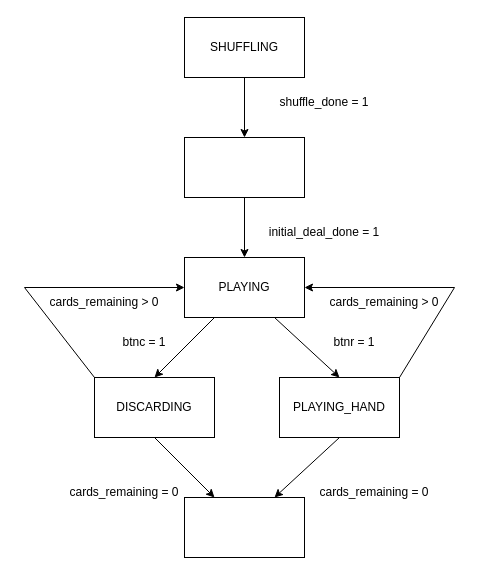
This 480x575 diagram has some shape labels left out. Here are the shapes that lost their labels. From the top down, the centre of each, then its label:
At [244,167]: "DEALING".
At [244,527]: "DECK_EMPTY".
